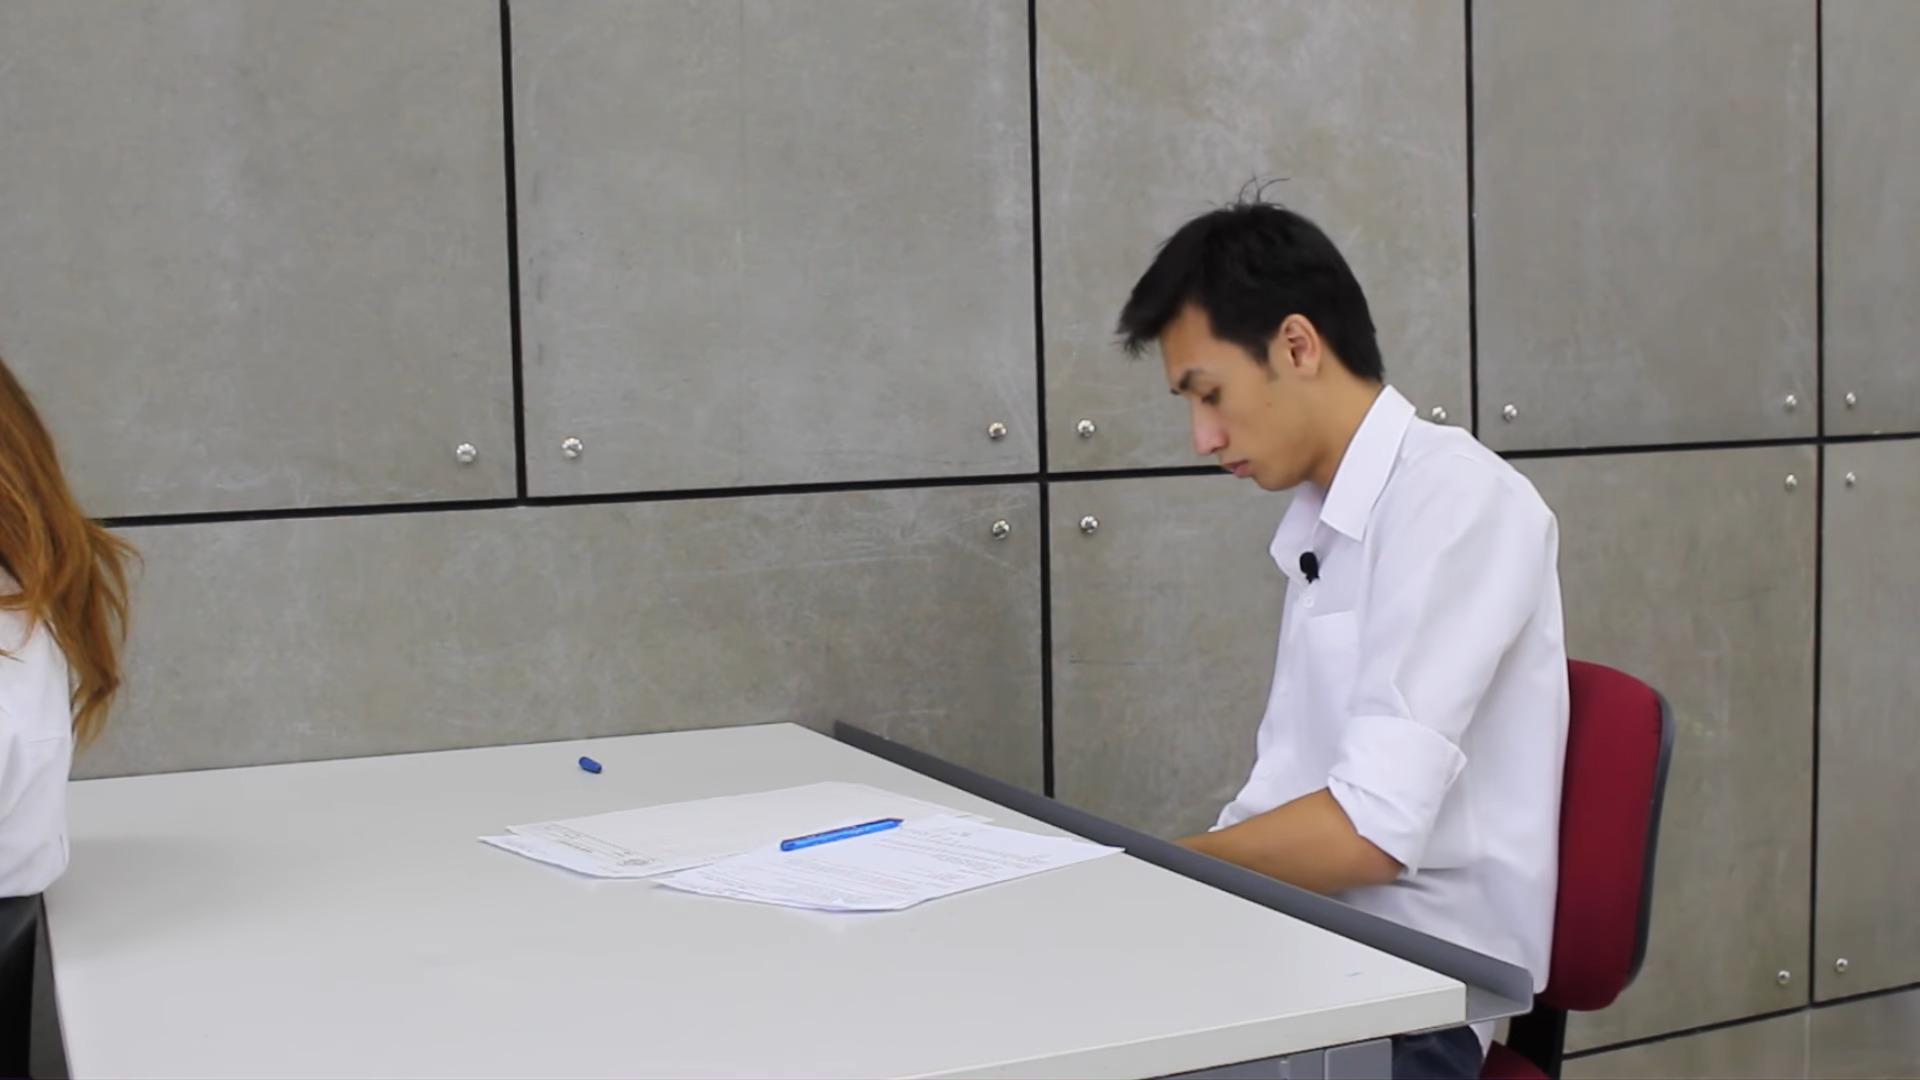cheating: (1088, 131, 1601, 1060)
